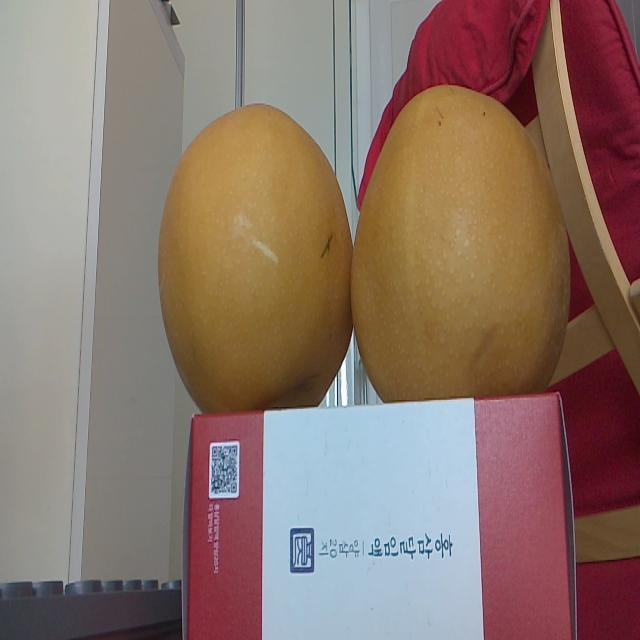pear: (352, 84, 570, 395), (159, 102, 350, 410)
